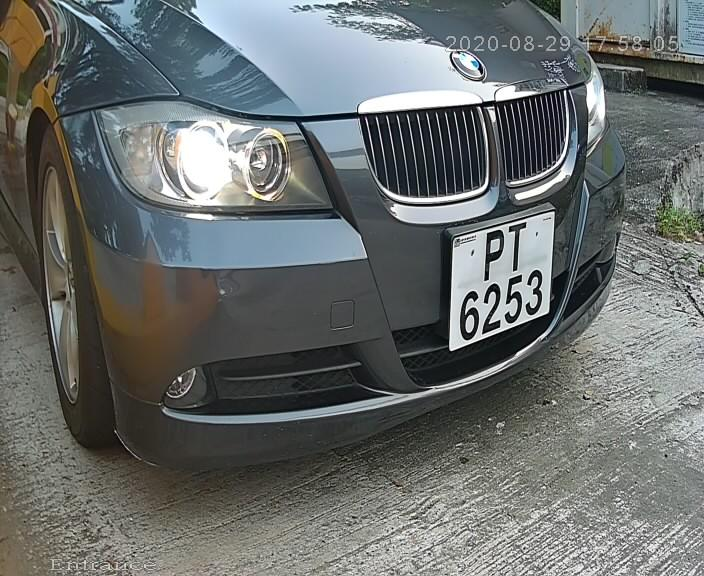License Plate: (437, 206, 560, 361)
